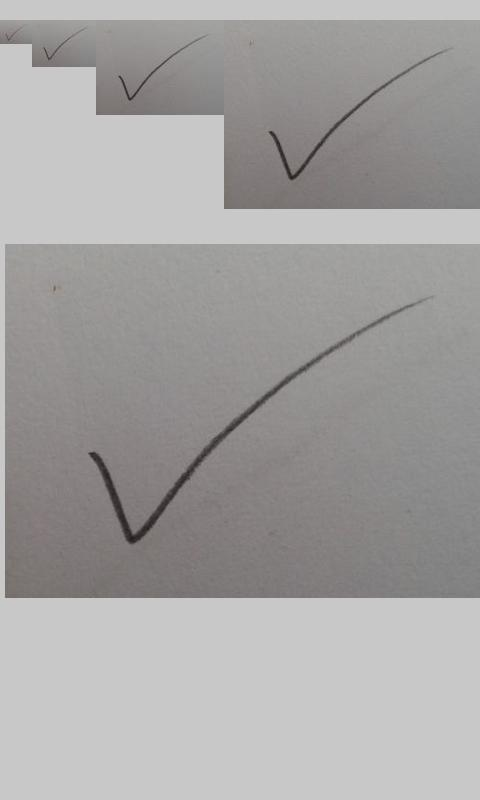check_box: (89, 303, 402, 548), (269, 62, 420, 181), (118, 45, 188, 101), (43, 29, 83, 60), (5, 26, 23, 41)
